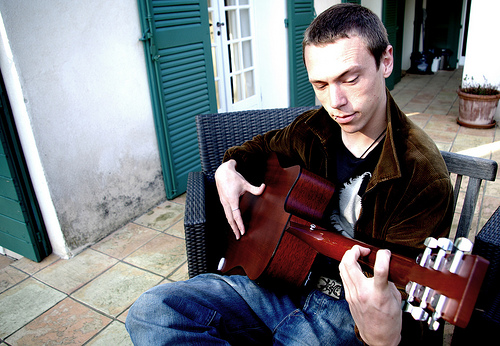guitar: (237, 159, 487, 328)
